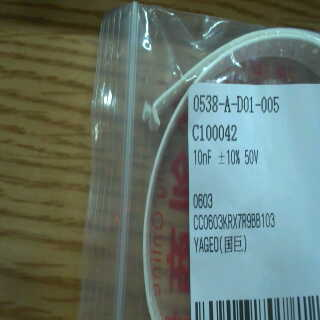10nF: (193, 147, 215, 171)
